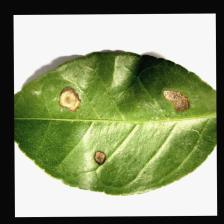canker: (35, 66, 195, 169)
